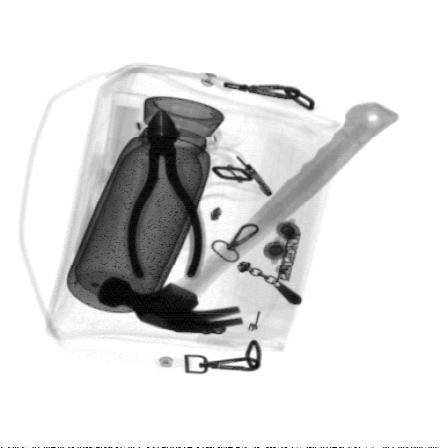Hammer: (96, 102, 401, 334)
Pliers: (124, 110, 208, 283)
